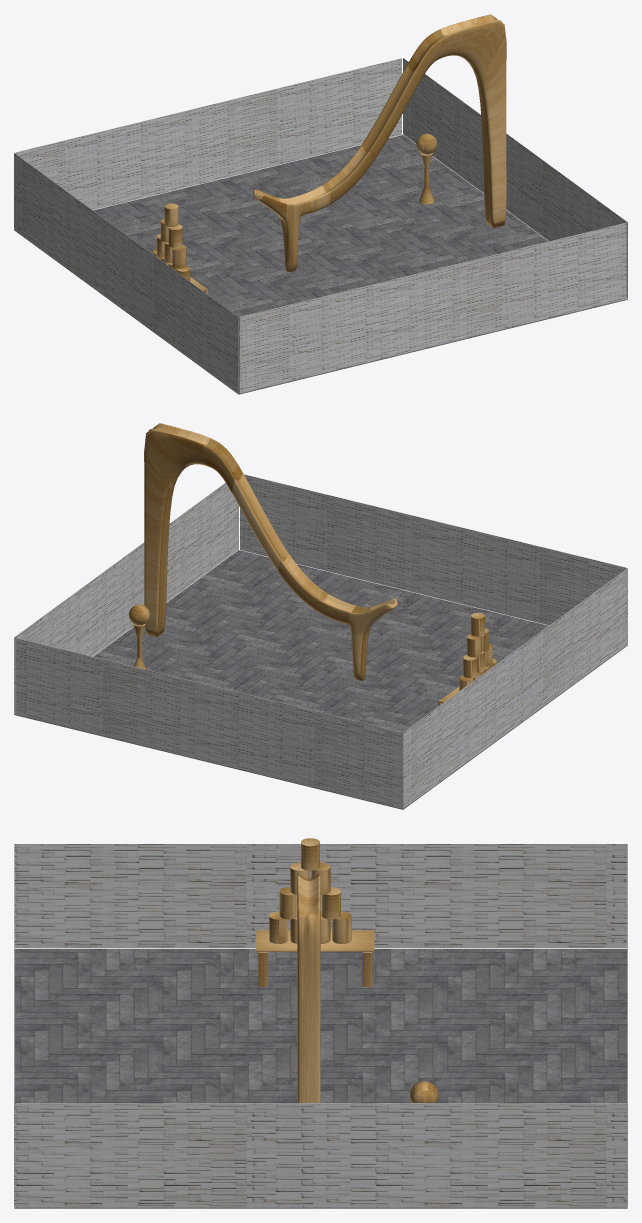
Rendered from Ball.dae.
The picture shows the model from 3 angles, top to bottom: view 1: azimuth 30°, elevation 25°; view 2: azimuth 150°, elevation 25°; view 3: azimuth 270°, elevation 25°; orthographic projection. The views are drawn at different scales.
Parts seen in each view (by area): view 1: Ground, Cube_005, Cube_001, Cube_004, Rutsche, Cube_002; view 2: Ground, Cube_001, Cube_005, Cube_004, Rutsche, Cube_002; view 3: Ground, Cube_002, Cube_004, Rutsche, Cube_001, Cylinder_010, Cylinder_005, Cylinder_002, Cylinder_007, Cylinder_013, Sphere.
Part boxes in pixels (left/top/right/bottom): Ground: left=14, top=135, right=627, bottom=394; Cube_005: left=240, top=222, right=626, bottom=393; Cube_001: left=15, top=58, right=401, bottom=209; Cube_004: left=14, top=153, right=238, bottom=393; Rutsche: left=253, top=14, right=506, bottom=271; Cube_002: left=403, top=58, right=627, bottom=298; Ground: left=14, top=550, right=627, bottom=809; Cube_001: left=15, top=638, right=401, bottom=808; Cube_005: left=240, top=474, right=626, bottom=625; Cube_004: left=403, top=568, right=627, bottom=808; Rutsche: left=144, top=423, right=397, bottom=680; Cube_002: left=14, top=482, right=238, bottom=713; Ground: left=14, top=949, right=627, bottom=1208; Cube_002: left=14, top=1103, right=627, bottom=1207; Cube_004: left=14, top=844, right=627, bottom=948; Rutsche: left=297, top=873, right=320, bottom=1102; Cube_001: left=256, top=930, right=374, bottom=986; Cylinder_010: left=301, top=838, right=319, bottom=870; Cylinder_005: left=332, top=911, right=351, bottom=943; Cylinder_002: left=269, top=911, right=288, bottom=943; Cylinder_007: left=279, top=887, right=297, bottom=919; Cylinder_013: left=322, top=887, right=340, bottom=919; Sphere: left=410, top=1081, right=438, bottom=1102.
Size of the model in its own units: 16.01 by 16.02 by 8.25.
4 materials, 4 textured.
